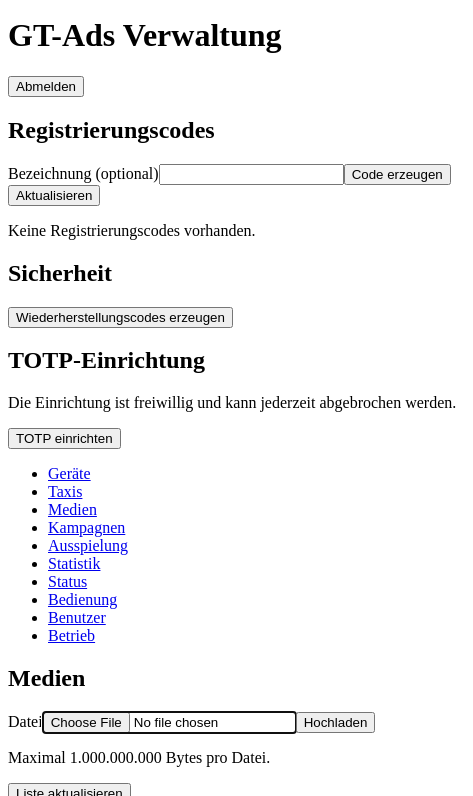
Test case: CX-039 Medienseite › sendet genau einen Upload, zeigt messbaren Fortschritt, dann die Serverpruefung und laedt erst nach Erfolg neu
Earlier steps of the test are not shown.
Later steps or results of the test are not shown.
Expected: the heading "Medien" is shown, left=8, top=665, right=85, bottom=691
Step 1. Click the button "Hochladen" → (336, 723), box left=296, top=712, right=375, bottom=733
(page scrolled)
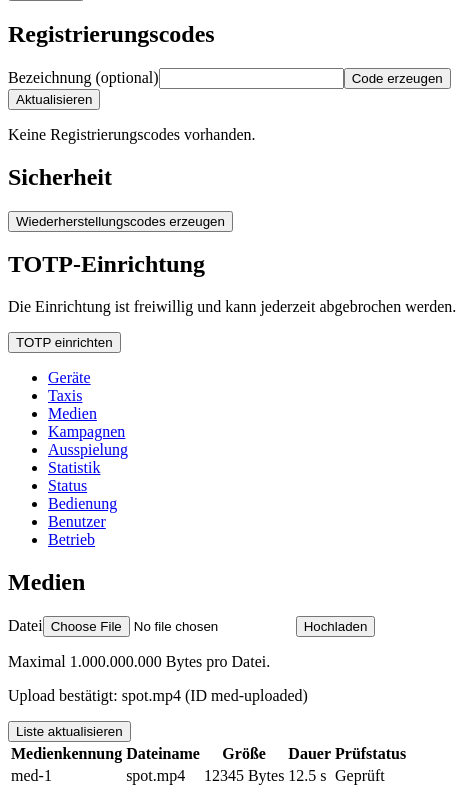
Expected: the text "Upload bestätigt: spot.mp4 (ID med-uploaded)" is shown, left=8, top=687, right=308, bottom=704
Expected: the text "med-1" is shown, left=10, top=766, right=123, bottom=786
